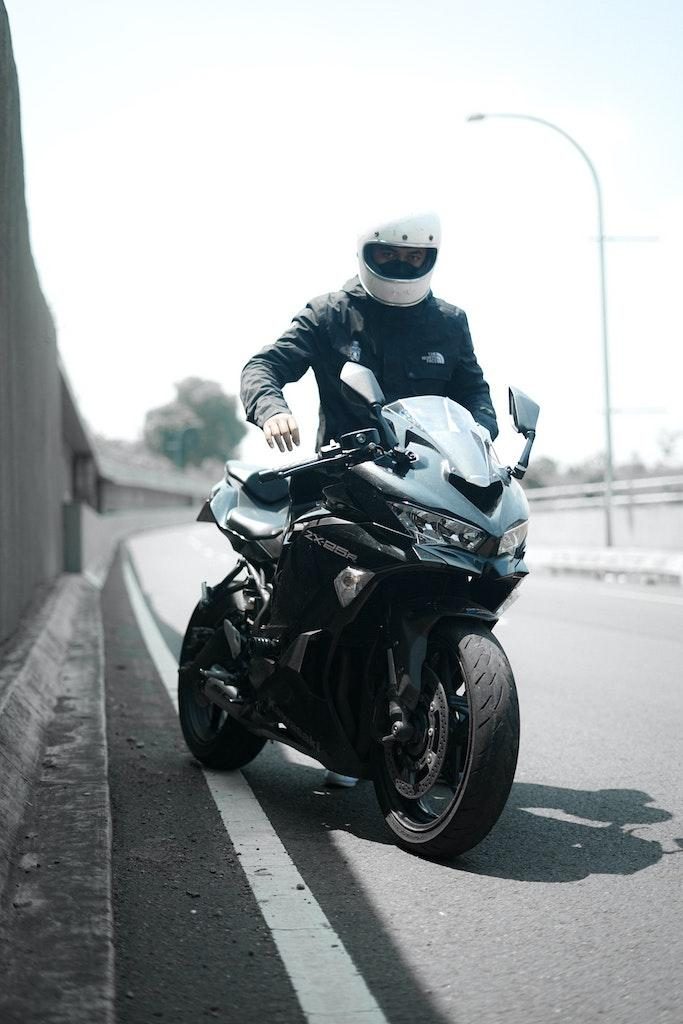helmet: (356, 193, 444, 309)
